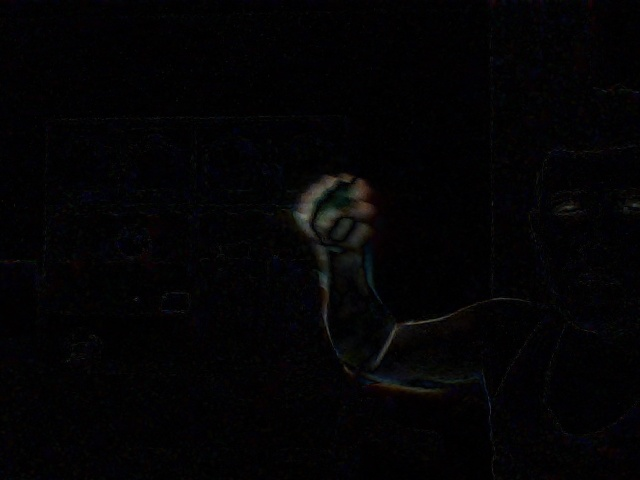hand_fi: (294, 167, 377, 249)
